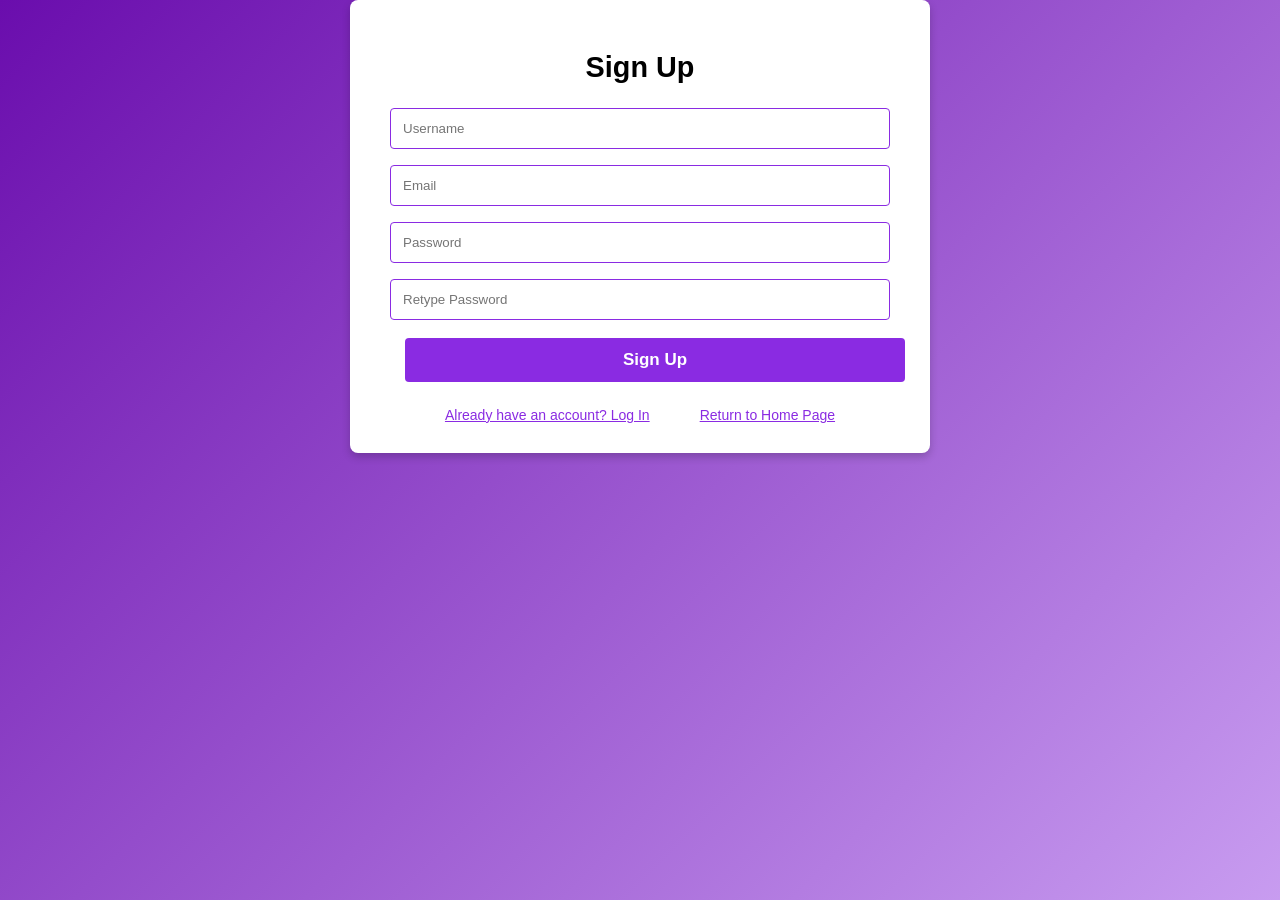
Scenario: SignUpPage Component › handles signup error
This screenshot has width=1280, height=900.
// Fill out form
Type "testuser" into the field with placeholder "Username" at (640, 128), box [390,108,890,149]
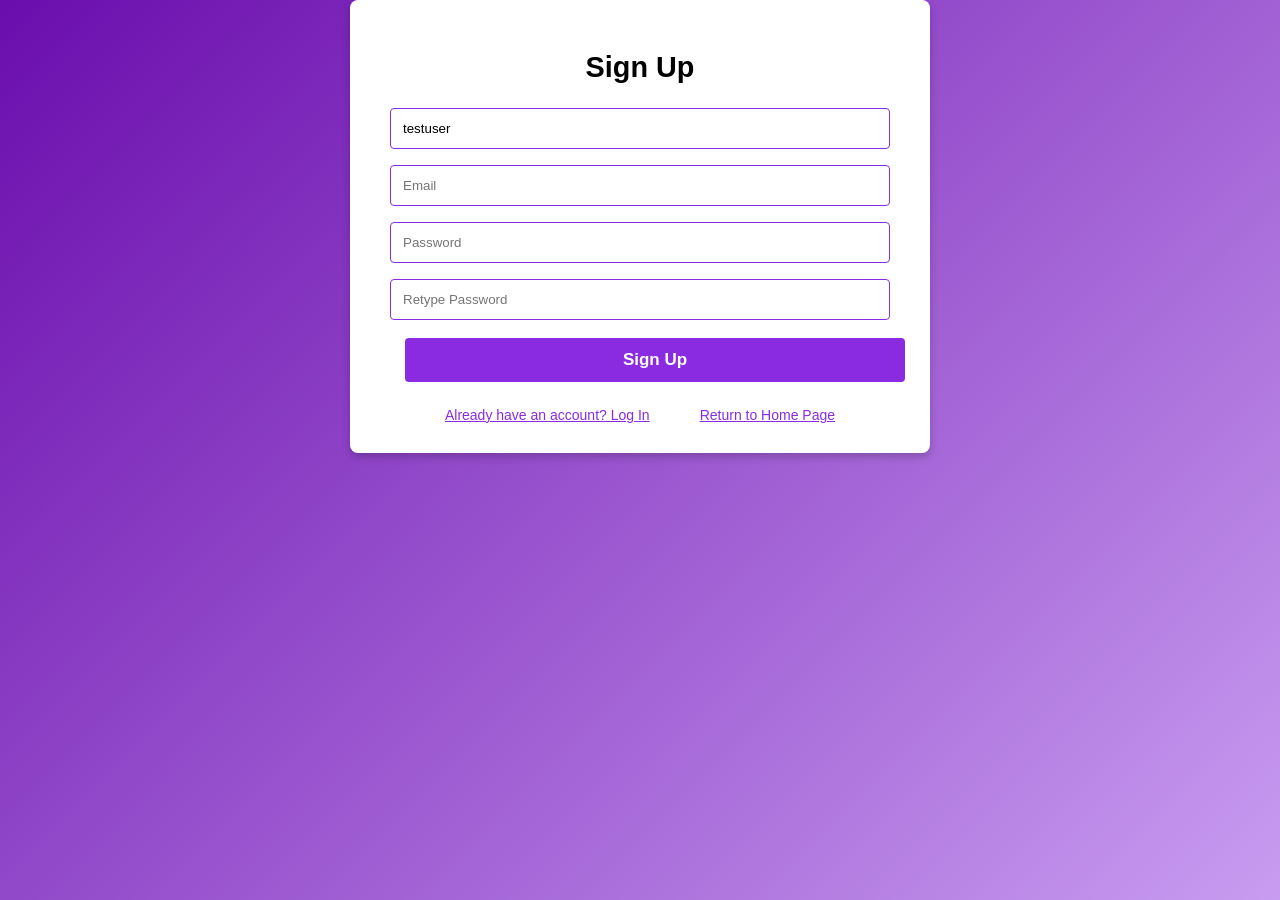
Type "test@example.com" into the field with placeholder "Email" at (640, 186), box [390,165,890,206]
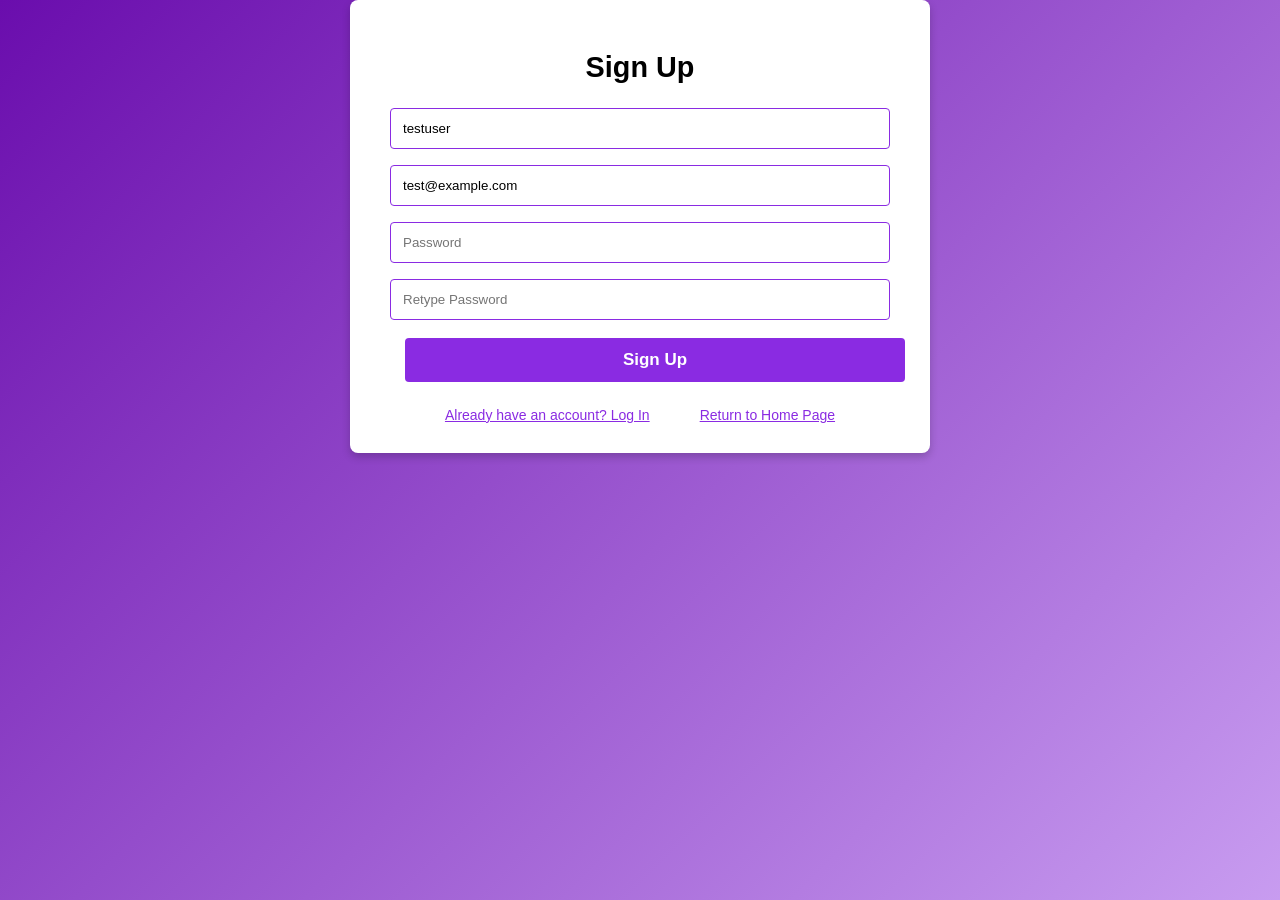
Type "password123" into the password field with placeholder "Password" at (640, 242), box [390,222,890,263]
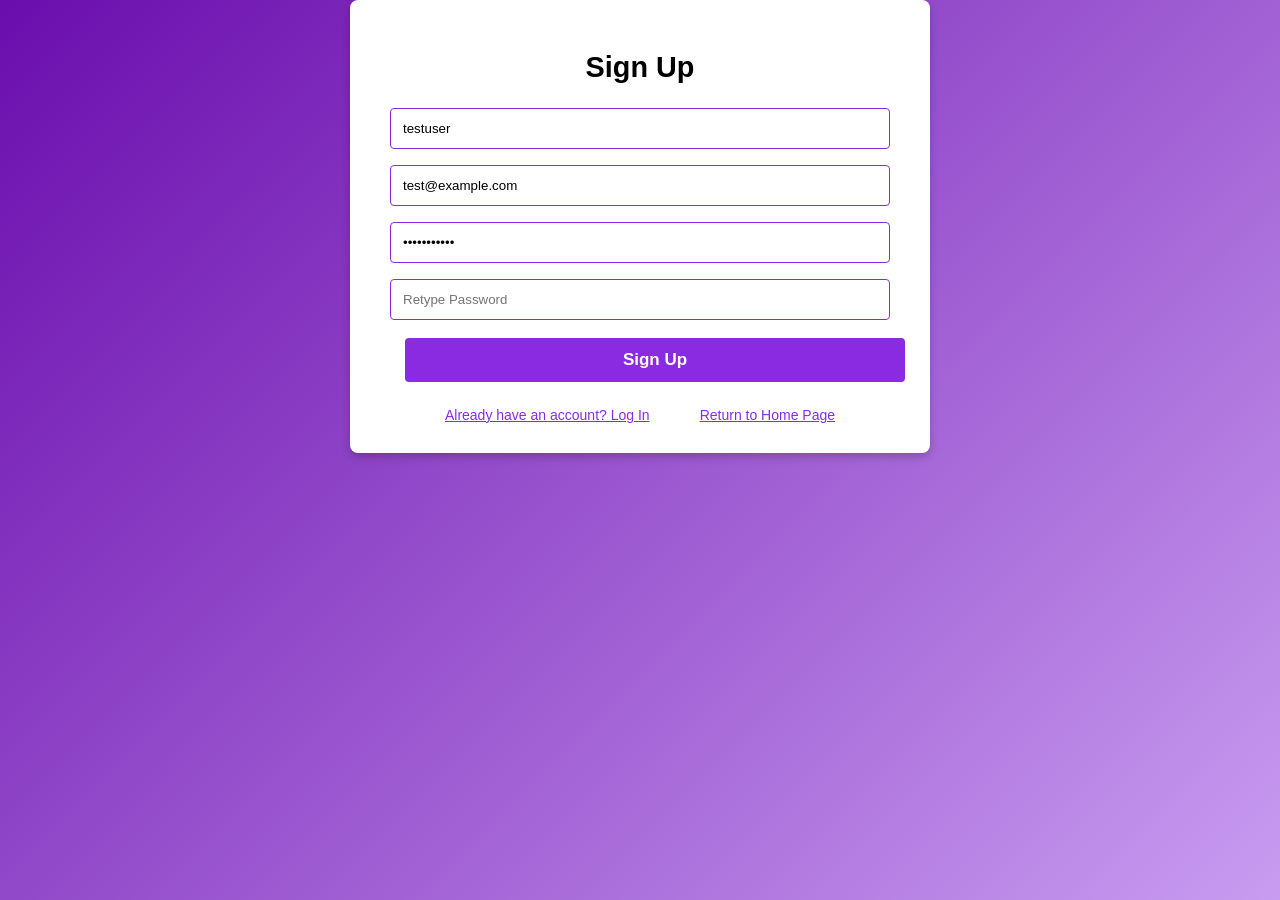
Type "password123" into the password field with placeholder "Retype Password" at (640, 300), box [390,279,890,320]
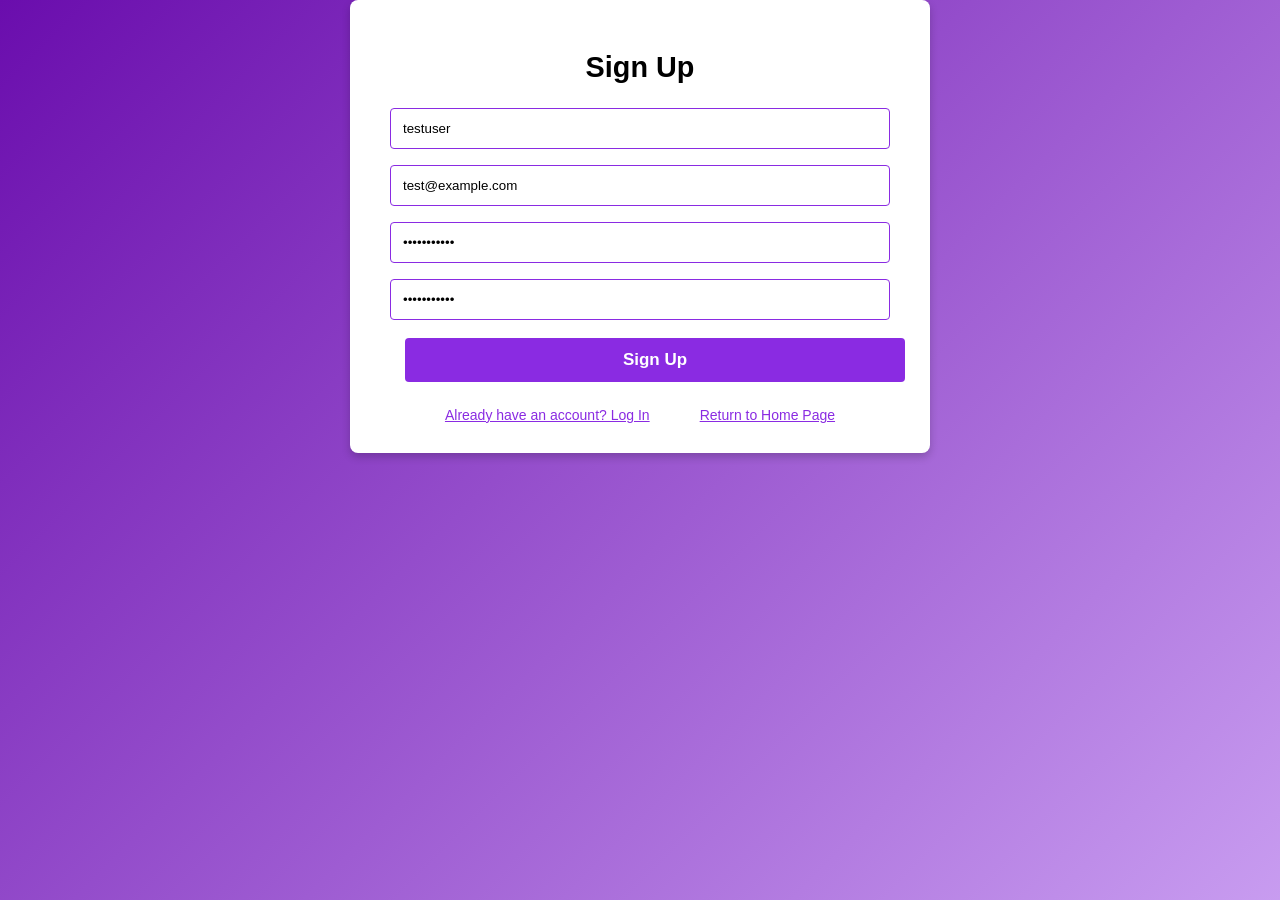
Click the button "Sign Up" at (655, 360), box [405,338,905,382]
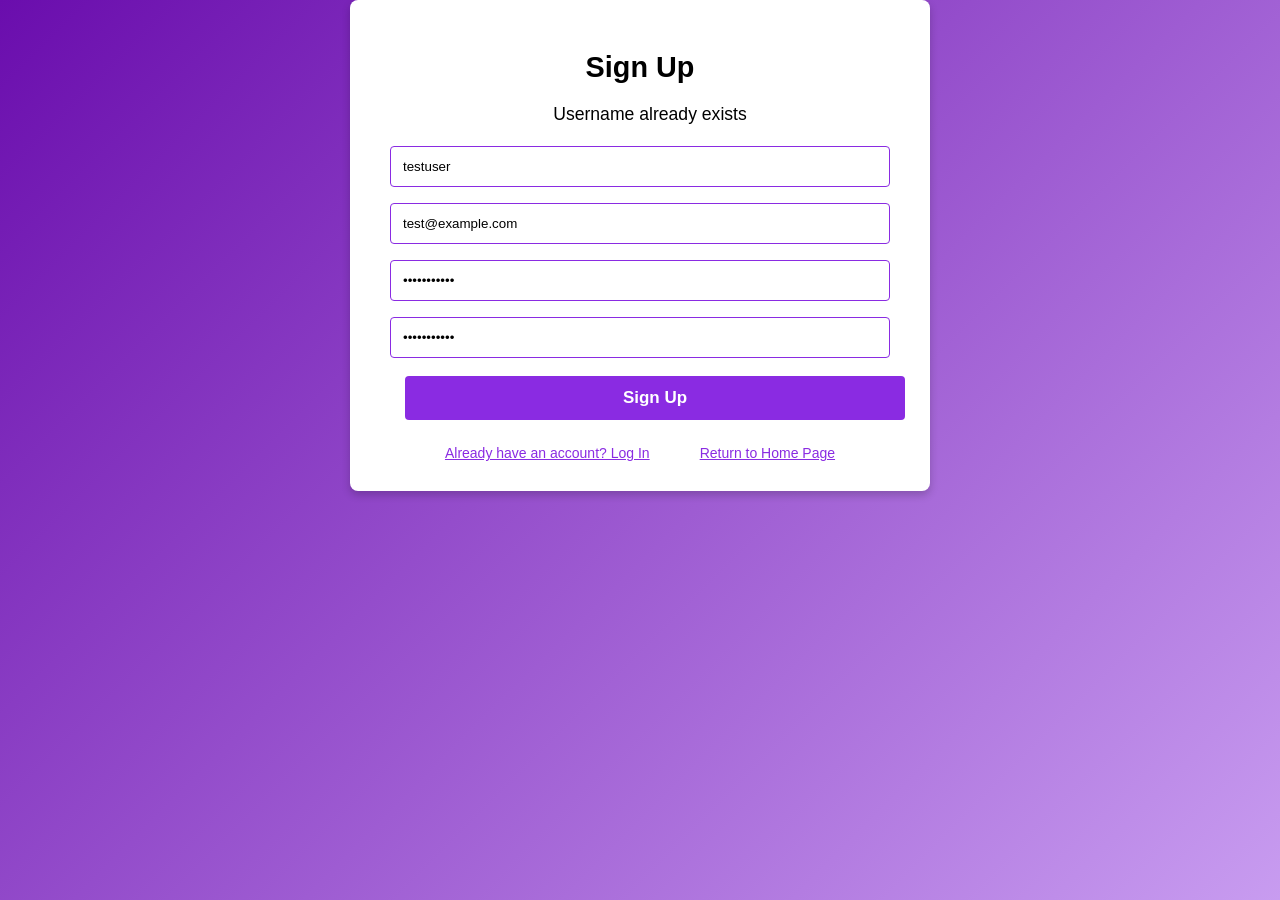
expect the text "Username already exists" is shown: met, box [553,104,747,124]
